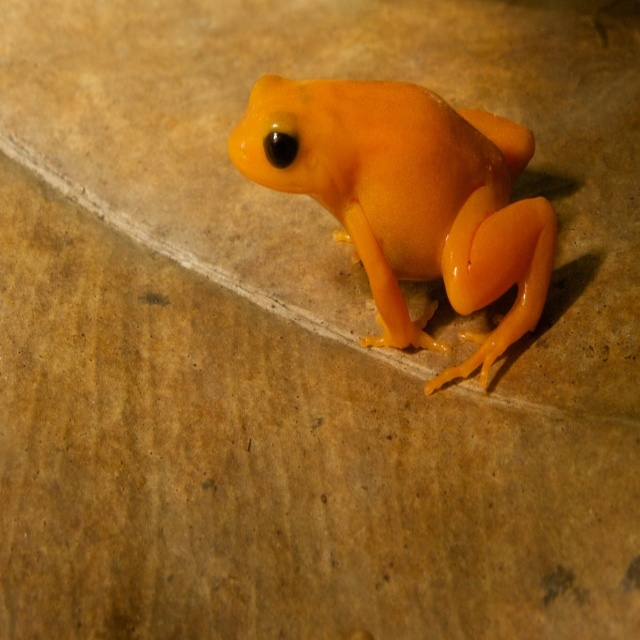Frog: (229, 76, 556, 396)
